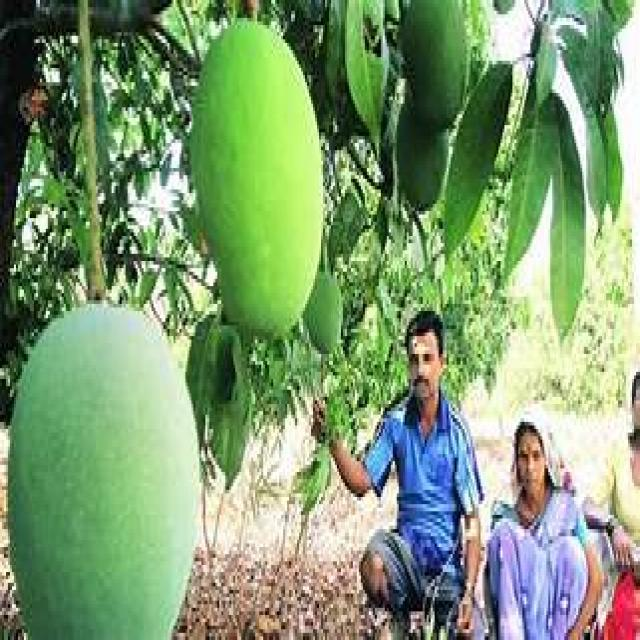mango: (7, 296, 202, 640), (192, 18, 326, 336), (400, 0, 467, 133)
